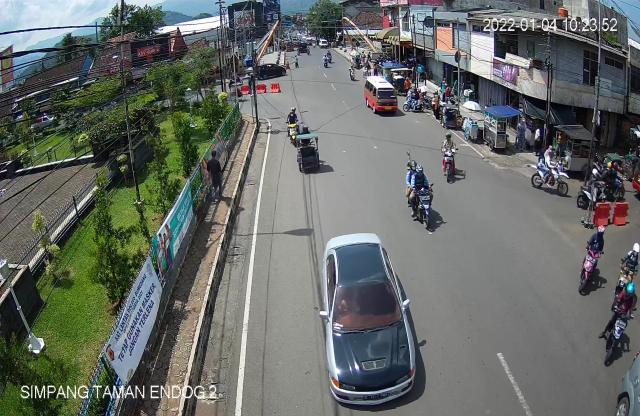Becak: (294, 127, 327, 182)
Mobil: (316, 230, 425, 411), (362, 70, 401, 123)
Motor: (597, 284, 636, 366), (401, 151, 437, 230), (530, 142, 569, 202), (578, 221, 606, 297), (576, 161, 612, 210), (437, 128, 464, 184), (616, 239, 640, 299)
